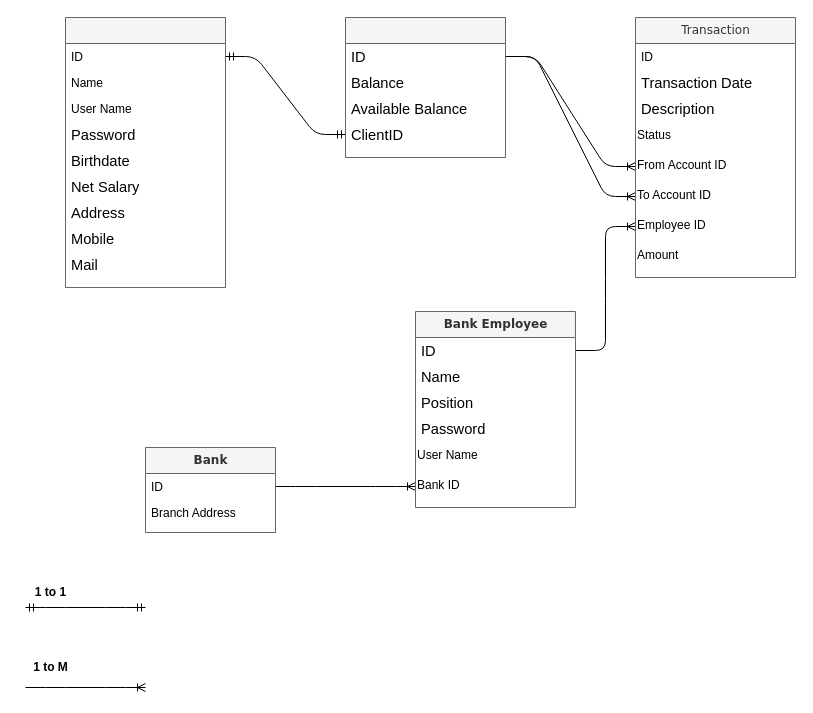
The diagram is 813 pixels wide and 713 high, and some of its shapes have lost their labels. Here are the shapes that lost their labels. From the top down, the box of each, then its label:
(344, 16, 506, 158): Account
(64, 16, 226, 288): Client
